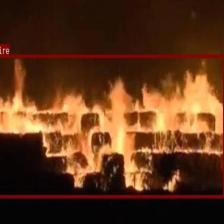fire: (0, 53, 224, 198)
